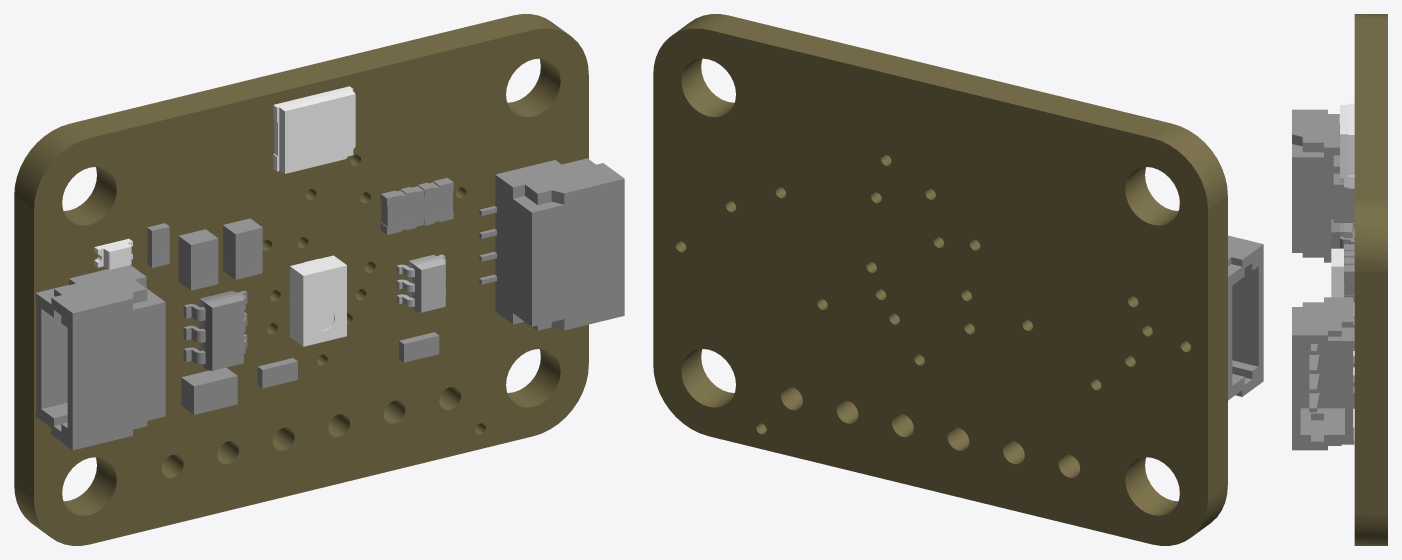
The model's file is 4698 AS7341 Light Color Sensor.glb.
3 renders of one model, left to right at view 1: azimuth 30°, elevation 25°; view 2: azimuth 150°, elevation 25°; view 3: azimuth 270°, elevation 25°, orthographic. The views are drawn at different scales.
Visible parts, largest first — view 1: Board, JST_SH4 (×2), 0805-NO (×3), KA-3528ASYC, AS7341, SOT23-6, RESPACK_4X0603, 0603-NO (×3), SOT363, CHIPLED_0603_NOOUTLINE; view 2: Board, JST_SH4; view 3: Board, JST_SH4 (×2), KA-3528ASYC, 0805-NO, AS7341, RESPACK_4X0603, SOT23-6.
Boxes of the visible parts, x1,y1,x2,y2 form: Board: [14, 14, 588, 545]; JST_SH4 (×2): [35, 158, 624, 450]; 0805-NO (×3): [178, 218, 262, 414]; KA-3528ASYC: [273, 86, 355, 173]; AS7341: [289, 255, 346, 346]; SOT23-6: [183, 290, 247, 370]; RESPACK_4X0603: [380, 177, 453, 234]; 0603-NO (×3): [147, 223, 439, 388]; SOT363: [396, 254, 445, 312]; CHIPLED_0603_NOOUTLINE: [94, 238, 132, 269]; Board: [653, 14, 1227, 545]; JST_SH4: [1228, 235, 1263, 400]; Board: [1354, 14, 1387, 545]; JST_SH4 (×2): [1292, 109, 1354, 450]; KA-3528ASYC: [1340, 103, 1354, 188]; 0805-NO: [1333, 173, 1354, 222]; AS7341: [1331, 248, 1354, 313]; RESPACK_4X0603: [1344, 244, 1354, 302]; SOT23-6: [1331, 219, 1354, 248].
Size of the model in its own units: 25.4 by 17.78 by 4.53.
